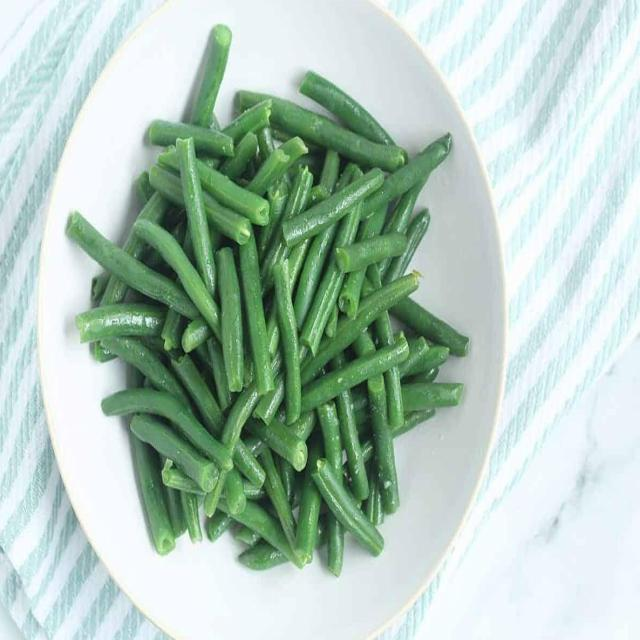Beans: (65, 1, 476, 592)
